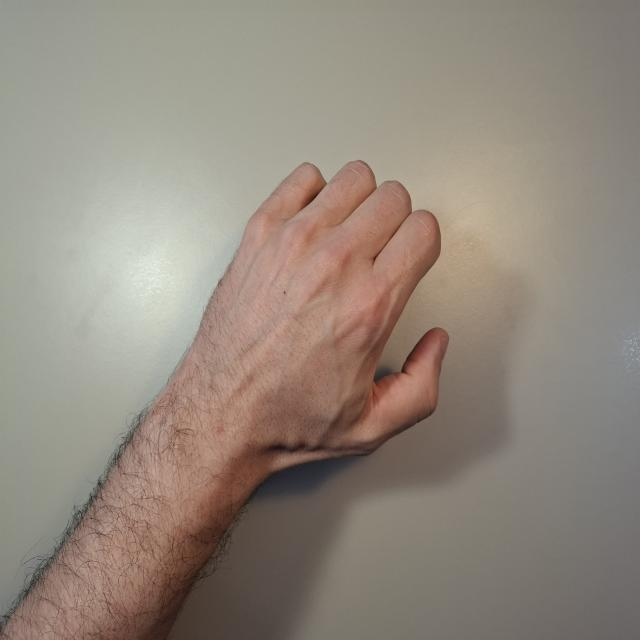glove_off: (201, 157, 452, 486)
